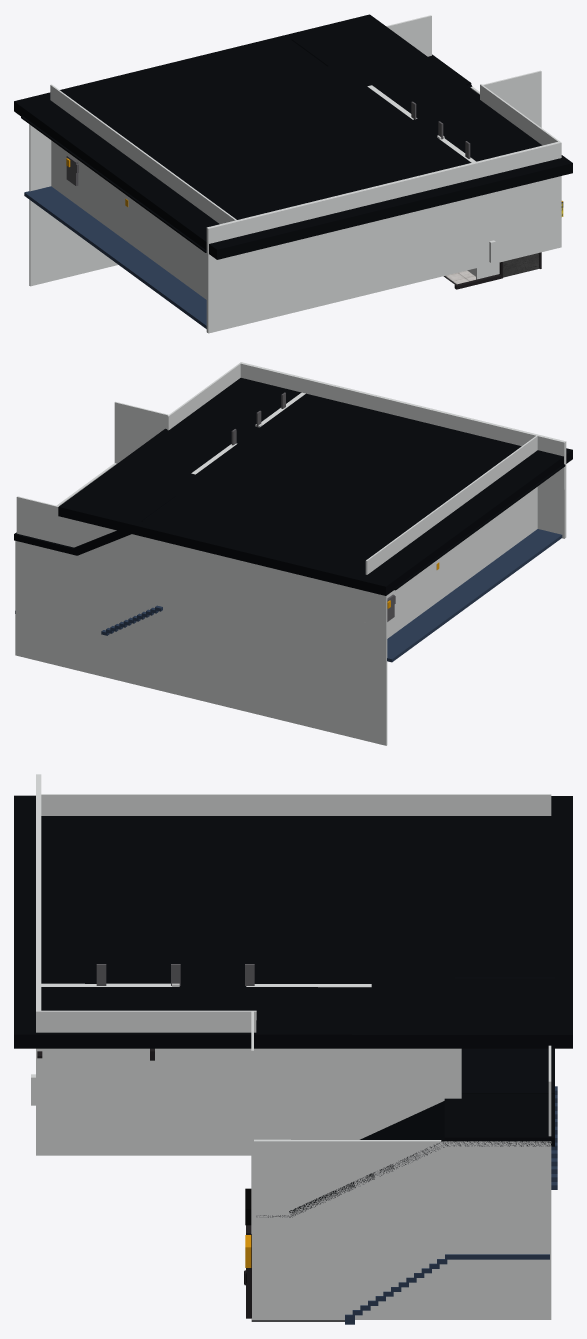
File: SCP Control Room.obj
The picture shows the model from 3 angles, top to bottom: view 1: azimuth 30°, elevation 25°; view 2: azimuth 150°, elevation 25°; view 3: azimuth 270°, elevation 25°; orthographic projection. The views are drawn at different scales.
Visible parts, largest first — view 1: Part33, Part76, Part36, Part52, Part22, Part65, Part55, Part60, Door3; view 2: Part33, Part52, Part36, Part76, Part22, Part65, Part55, Part60, Part75; view 3: Part33, Part49, Part55, Part64, Part36, Part34, Part75, Part35, Part76.
Boxes of the visible parts, left/top/right/bottom form: Part33: left=14, top=14, right=572, bottom=259; Part76: left=206, top=141, right=561, bottom=333; Part36: left=50, top=84, right=238, bottom=326; Part52: left=29, top=15, right=431, bottom=286; Part22: left=24, top=186, right=206, bottom=328; Part65: left=483, top=70, right=541, bottom=127; Part55: left=480, top=84, right=561, bottom=247; Part60: left=21, top=116, right=206, bottom=252; Door3: left=503, top=253, right=539, bottom=277; Part33: left=58, top=378, right=572, bottom=595; Part52: left=16, top=496, right=387, bottom=745; Part36: left=365, top=435, right=537, bottom=638; Part76: left=239, top=362, right=566, bottom=538; Part22: left=387, top=529, right=562, bottom=662; Part65: left=114, top=401, right=168, bottom=463; Part55: left=167, top=363, right=240, bottom=430; Part60: left=394, top=464, right=565, bottom=590; Part75: left=73, top=496, right=175, bottom=555; Part33: left=14, top=795, right=572, bottom=1048; Part49: left=252, top=1139, right=551, bottom=1319; Part55: left=41, top=1010, right=256, bottom=1155; Part64: left=254, top=1048, right=461, bottom=1139; Part36: left=41, top=794, right=551, bottom=815; Part34: left=444, top=1098, right=554, bottom=1146; Part75: left=455, top=977, right=554, bottom=1093; Part35: left=289, top=1101, right=449, bottom=1216; Part76: left=36, top=774, right=41, bottom=1155.
Size of what is drawn, in the model's own units: 53.54 by 23.54 by 43.62.
Materials: 28 (9 with a texture image).
